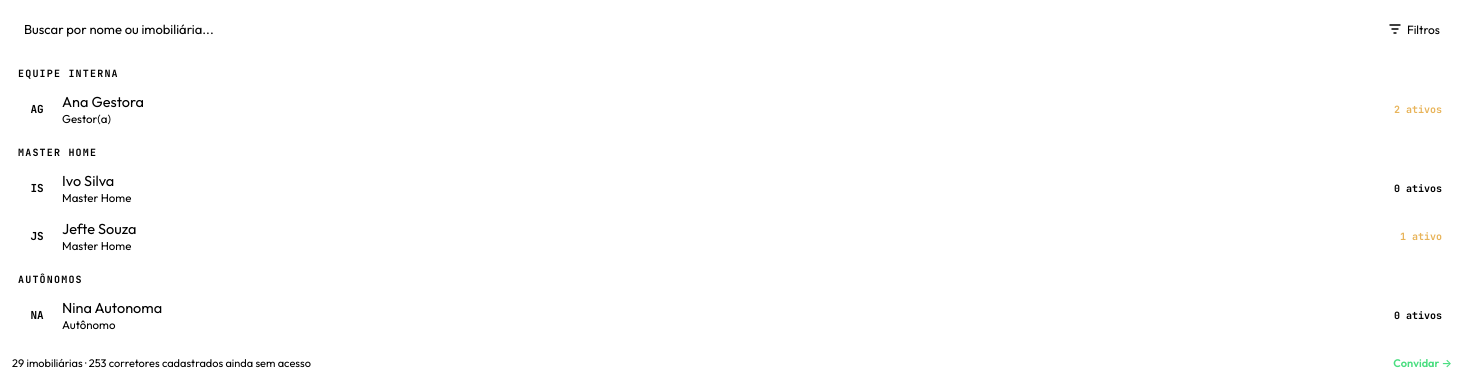
Test: NexaEntityPicker — comportamento aprovado › escopo sem filtro busca em nome E imobiliária
This screenshot has width=1464, height=385.
Type "master" into the field with placeholder "Buscar por nome ou imobiliária..." at {"x": 690, "y": 29}, box [12,12,1369,46]
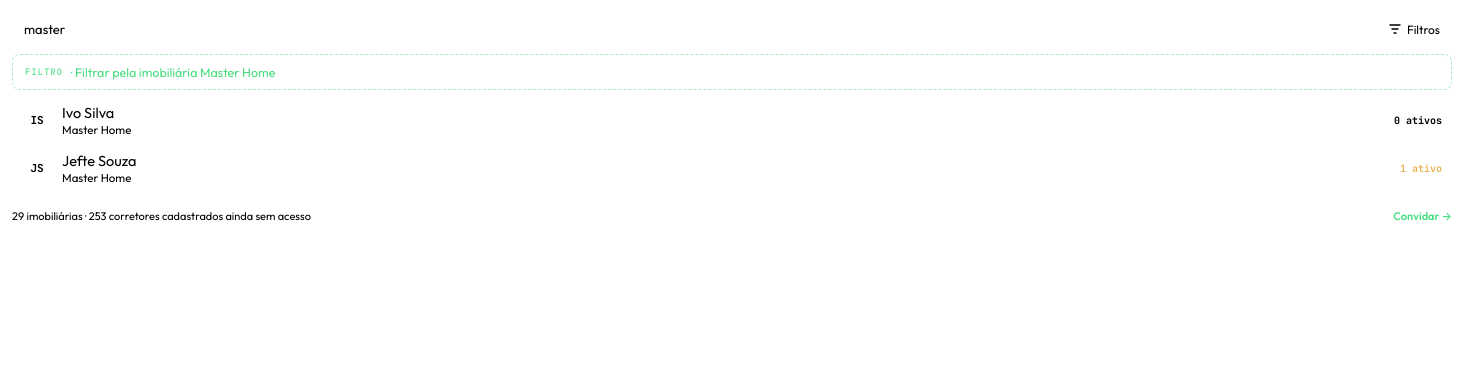
Expected: the text "Ivo Silva" is shown, [62,103,114,122]
Expected: the button "Nina Autonoma" is gone
